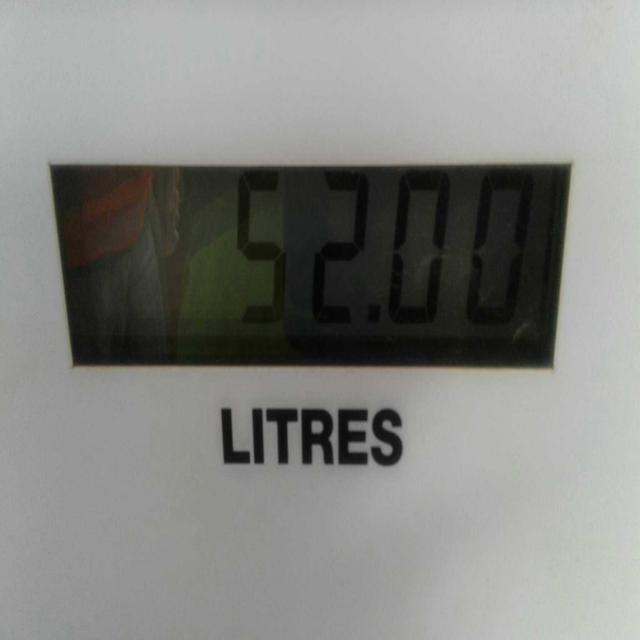.: (369, 307, 379, 333)
0: (389, 170, 449, 324), (466, 180, 530, 318)
2: (315, 164, 366, 326)
5: (234, 174, 282, 318)
